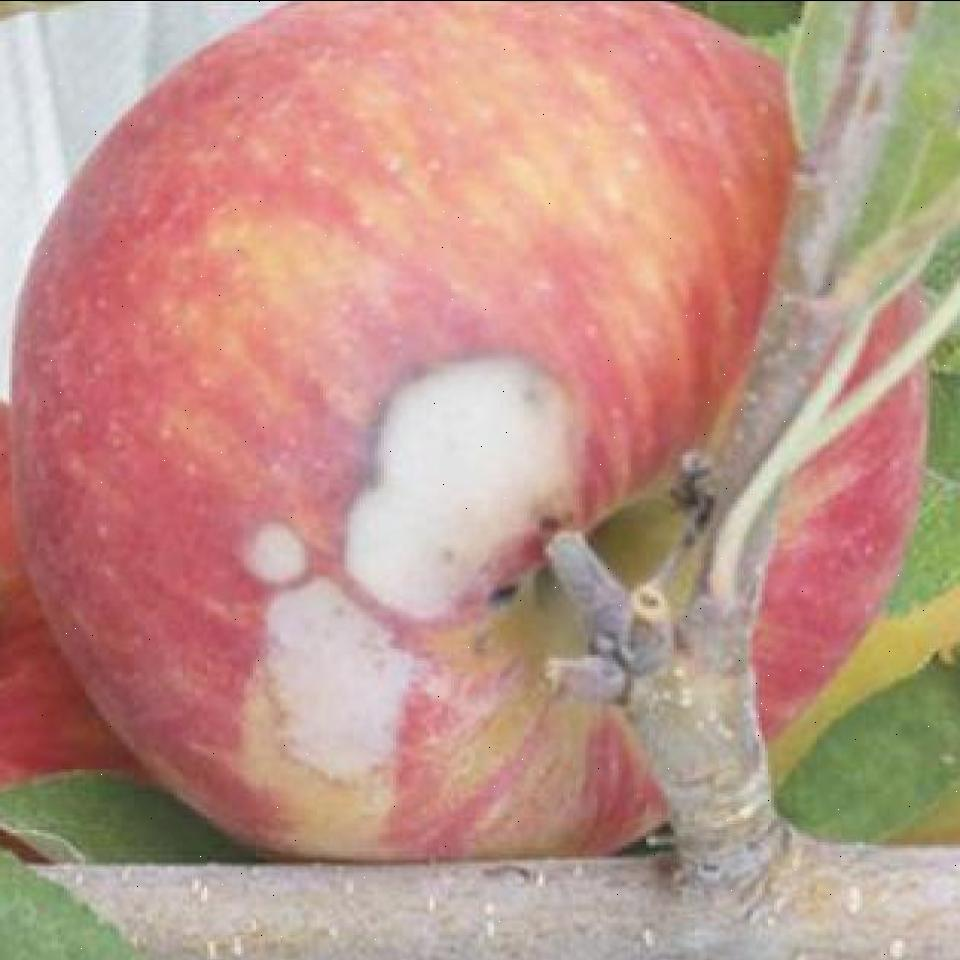Sunscald: (198, 317, 616, 775)
